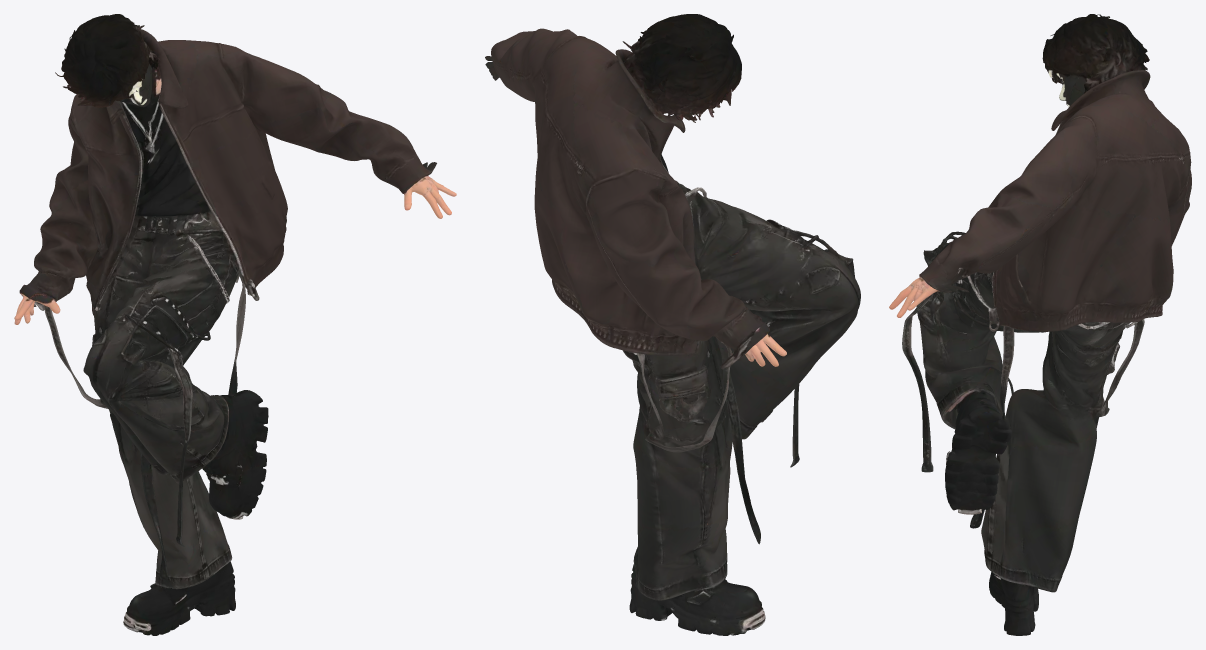
Rendered from chamarra_cuero_cafe_modelo_3D.glb.
3 views of the same model, side by side, from view 1: azimuth 30°, elevation 25°; view 2: azimuth 150°, elevation 25°; view 3: azimuth 270°, elevation 25° (orthographic). The views are drawn at different scales.
Parts seen in each view (by area): view 1: mesh_node; view 2: mesh_node; view 3: mesh_node.
Part boxes in pixels (left/top/right/bottom): mesh_node: left=14, top=14, right=456, bottom=635; mesh_node: left=485, top=14, right=860, bottom=635; mesh_node: left=889, top=14, right=1191, bottom=635.
Bounding box in the file's own units: 1.19 × 1.9 × 0.9049.
Materials: 1 (1 with a texture image).
